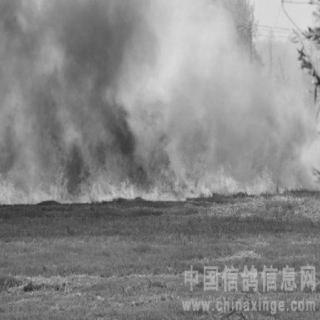Fire: (0, 141, 287, 200)
Smoke: (27, 22, 140, 172)
